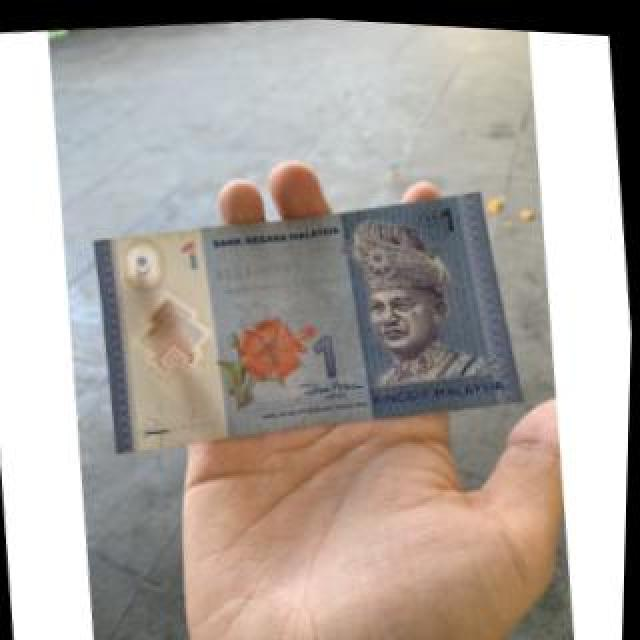1 Ringgit: (74, 144, 541, 477)
